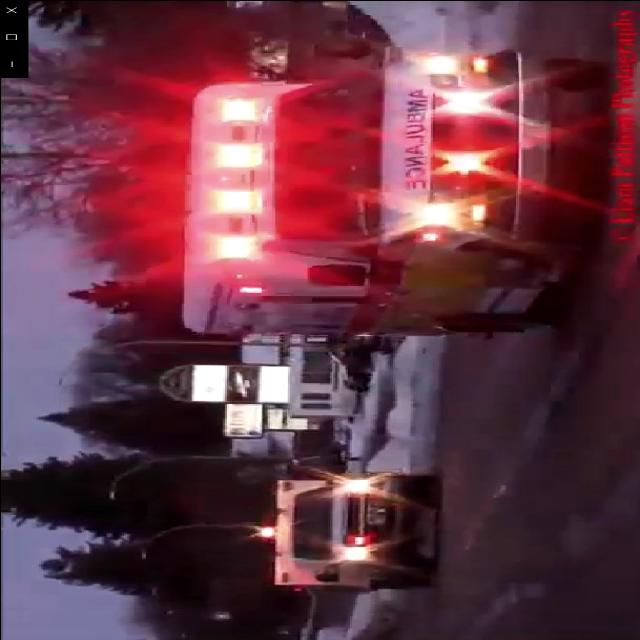emergency: (136, 38, 610, 343), (242, 461, 458, 598)
